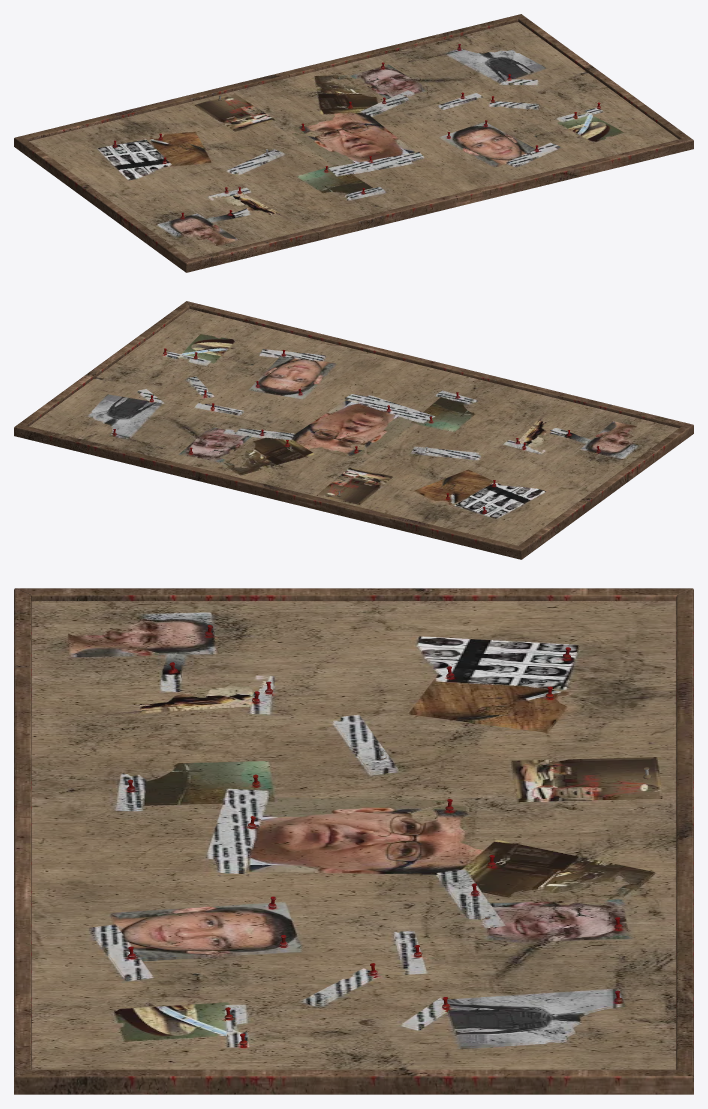
Rendered from investigation_board.glb.
3 views of the same model, one above another, from view 1: azimuth 30°, elevation 25°; view 2: azimuth 150°, elevation 25°; view 3: azimuth 270°, elevation 25° (orthographic). The views are drawn at different scales.
Visible parts, largest first — view 1: InvestigationBoard_Material _2538_0; view 2: InvestigationBoard_Material _2538_0; view 3: InvestigationBoard_Material _2538_0.
Boxes of the visible parts, <box> form: InvestigationBoard_Material _2538_0: <box>14,14,693,272</box>; InvestigationBoard_Material _2538_0: <box>14,301,693,559</box>; InvestigationBoard_Material _2538_0: <box>14,588,693,1094</box>.
Size of the model in its own units: 4.32 by 0.1017 by 2.54.
1 material, 1 textured.
